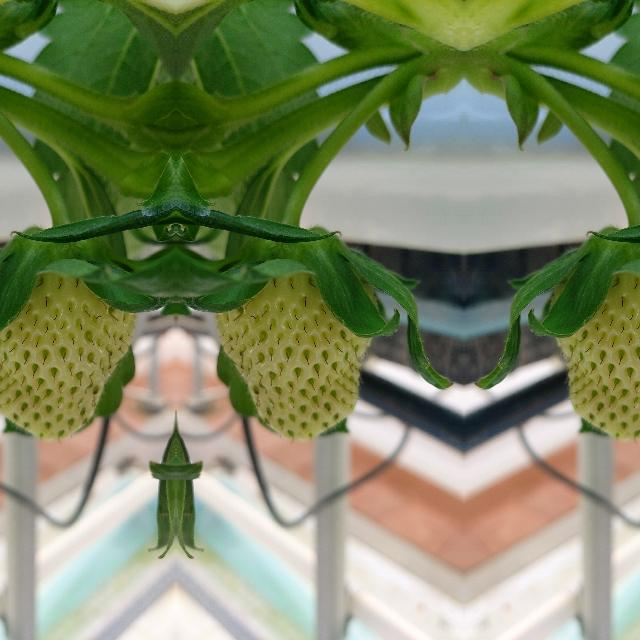Health_25: (214, 262, 378, 443), (0, 262, 136, 443), (547, 262, 640, 443)
